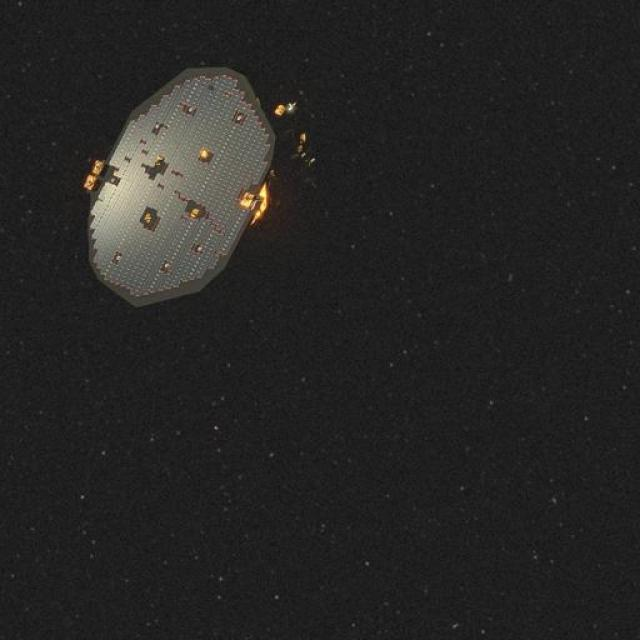lisa_pathfinder: (59, 44, 330, 325)
